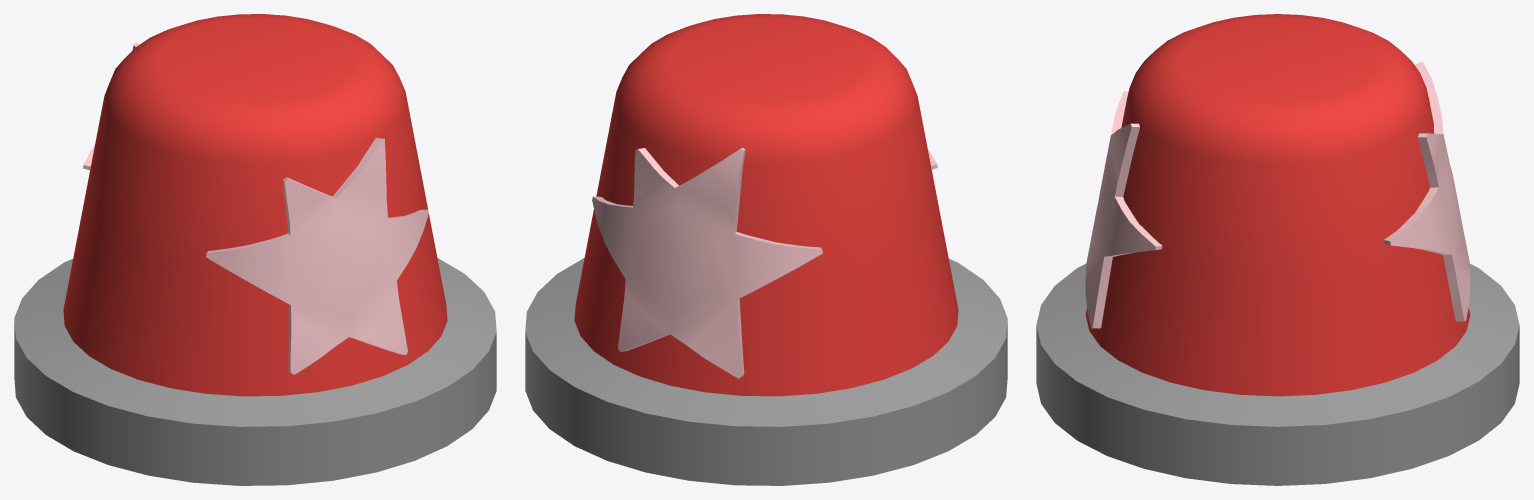
File: police_car_light.glb
3 renders of one model, left to right at view 1: azimuth 30°, elevation 25°; view 2: azimuth 150°, elevation 25°; view 3: azimuth 270°, elevation 25°, orthographic.
Parts seen in each view (by area): view 1: Circle.2396, Plane.236; view 2: Circle.2396, Plane.235; view 3: Circle.2396, Plane.235, Plane.236.
Boxes of the visible parts, x1,y1,x2,y2 form: Circle.2396: (14,14,496,485); Plane.236: (206,137,428,374); Circle.2396: (525,14,1007,485); Plane.235: (592,147,822,378); Circle.2396: (1036,14,1519,485); Plane.235: (1384,61,1469,321); Plane.236: (1085,91,1162,328).
Bounding box in the file's own units: 2.34 × 1.73 × 2.34.
1 material, 1 textured.
